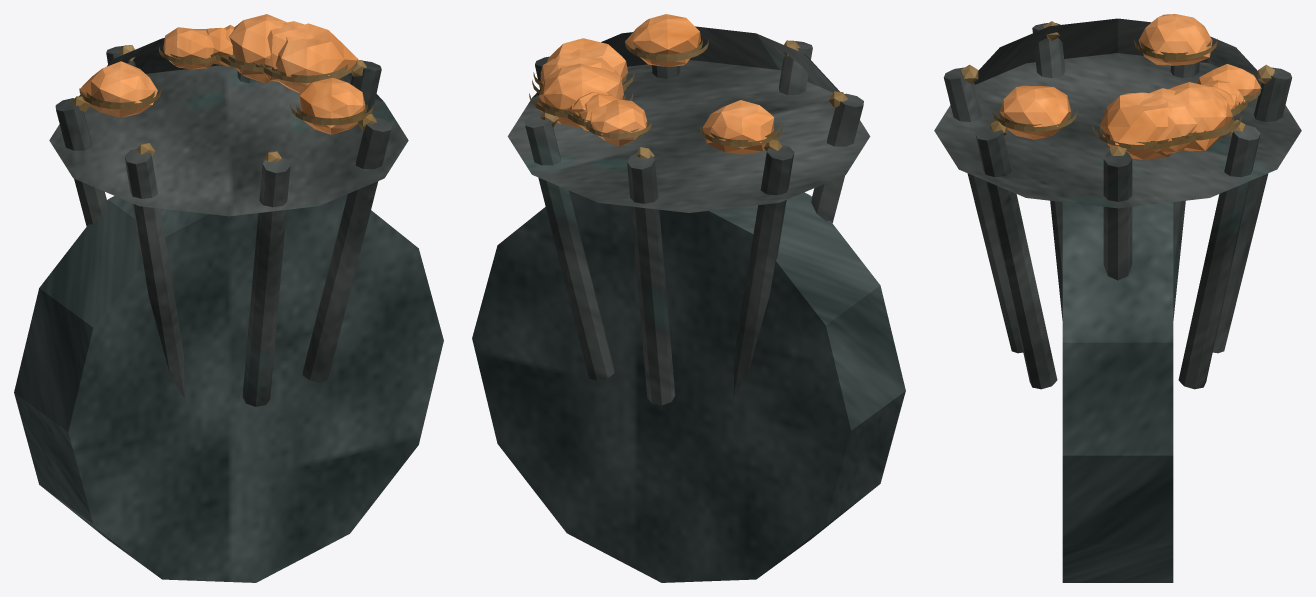
File: 0540_brazier_15.glb
The picture shows the model from 3 angles, left to right: view 1: azimuth 30°, elevation 25°; view 2: azimuth 150°, elevation 25°; view 3: azimuth 270°, elevation 25°; orthographic projection. The views are drawn at different scales.
Parts seen in each view (by area): view 1: stone_dark, iron, amber, brass; view 2: stone_dark, iron, amber, brass; view 3: iron, stone_dark, amber, brass.
Boxes of the visible parts, x1,y1,x2,y2 form: stone_dark: (14,194,443,582); iron: (49,38,408,406); amber: (79,14,365,134); brass: (71,45,376,162); stone_dark: (472,190,905,582); iron: (507,26,870,405); amber: (537,14,774,154); brass: (529,39,847,158); iron: (934,18,1301,389); stone_dark: (1062,202,1173,582); amber: (1000,14,1261,159); brass: (961,21,1274,155).
Size of the model in its own units: 1.4 by 1.78 by 1.16.
4 materials, 4 textured.
